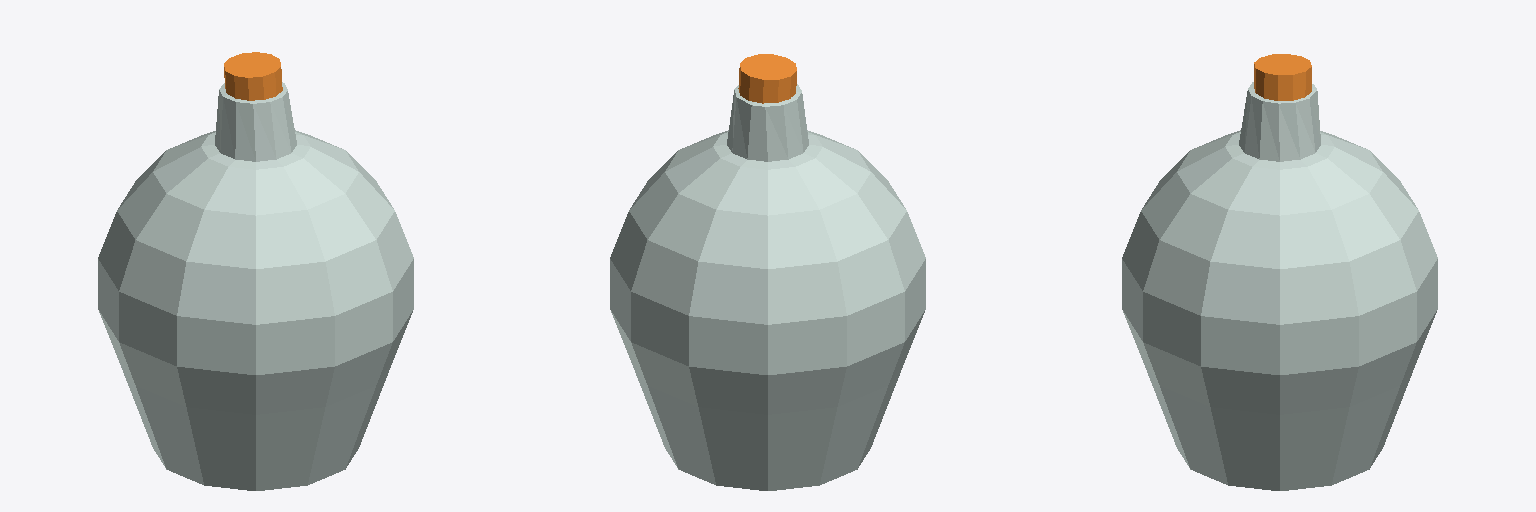
3 views of the same model, side by side, from view 1: azimuth 30°, elevation 25°; view 2: azimuth 150°, elevation 25°; view 3: azimuth 270°, elevation 25° (orthographic).
Visible parts, largest first — view 1: group[number redacted], group[number redacted]; view 2: group[number redacted], group[number redacted]; view 3: group[number redacted], group[number redacted].
Part boxes in pixels (x1,y1,x2,y2): group[number redacted]: (98, 82, 413, 490); group[number redacted]: (224, 52, 282, 100); group[number redacted]: (610, 84, 925, 490); group[number redacted]: (738, 54, 796, 103); group[number redacted]: (1122, 82, 1437, 490); group[number redacted]: (1254, 54, 1311, 100).
Size of the model in its own units: 0.1083 by 0.145 by 0.1083.